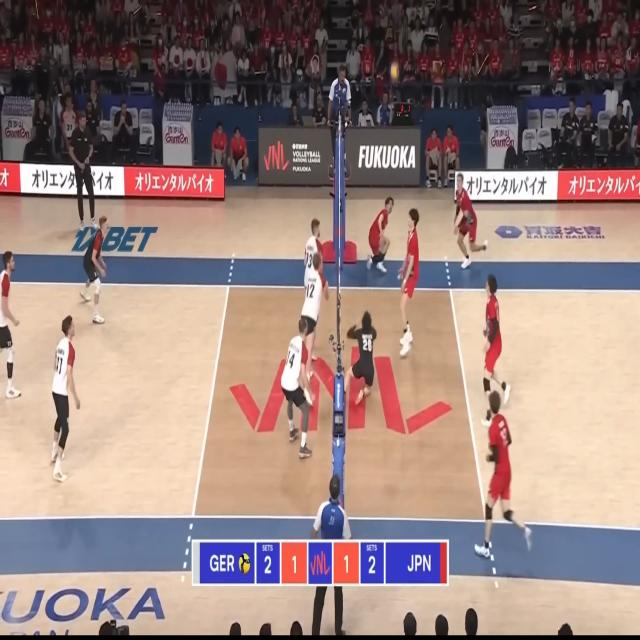ball: (391, 62, 399, 80)
